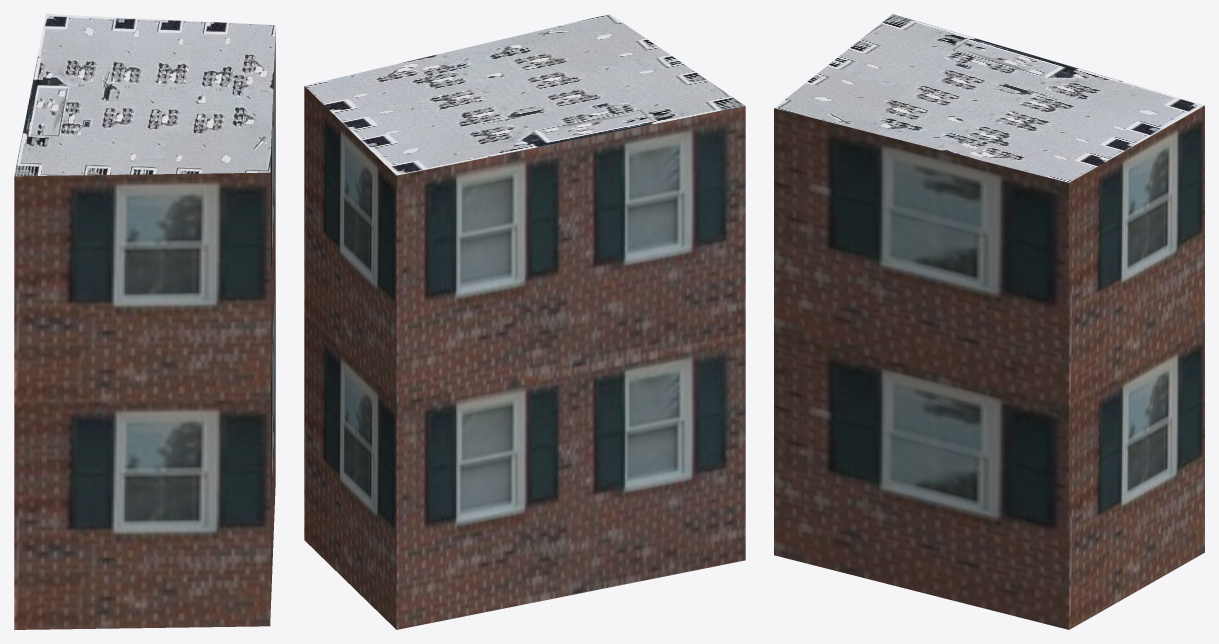
The model's file is ResTex__3472.fbx.
3 renders of one model, left to right at view 1: azimuth 30°, elevation 25°; view 2: azimuth 150°, elevation 25°; view 3: azimuth 270°, elevation 25°, orthographic.
Parts seen in each view (by area): view 1: CityEngineMaterial_14_m, CityEngineMaterial_m; view 2: CityEngineMaterial_14_m, CityEngineMaterial_m; view 3: CityEngineMaterial_14_m, CityEngineMaterial_m.
Boxes of the visible parts, <box> form: CityEngineMaterial_14_m: <box>14,34,275,629</box>; CityEngineMaterial_m: <box>14,14,275,176</box>; CityEngineMaterial_14_m: <box>304,86,745,629</box>; CityEngineMaterial_m: <box>304,14,744,175</box>; CityEngineMaterial_14_m: <box>774,105,1204,629</box>; CityEngineMaterial_m: <box>774,14,1204,182</box>.
Size of the model in its own units: 4.86 by 6 by 5.24.
Materials: 2 (2 with a texture image).
